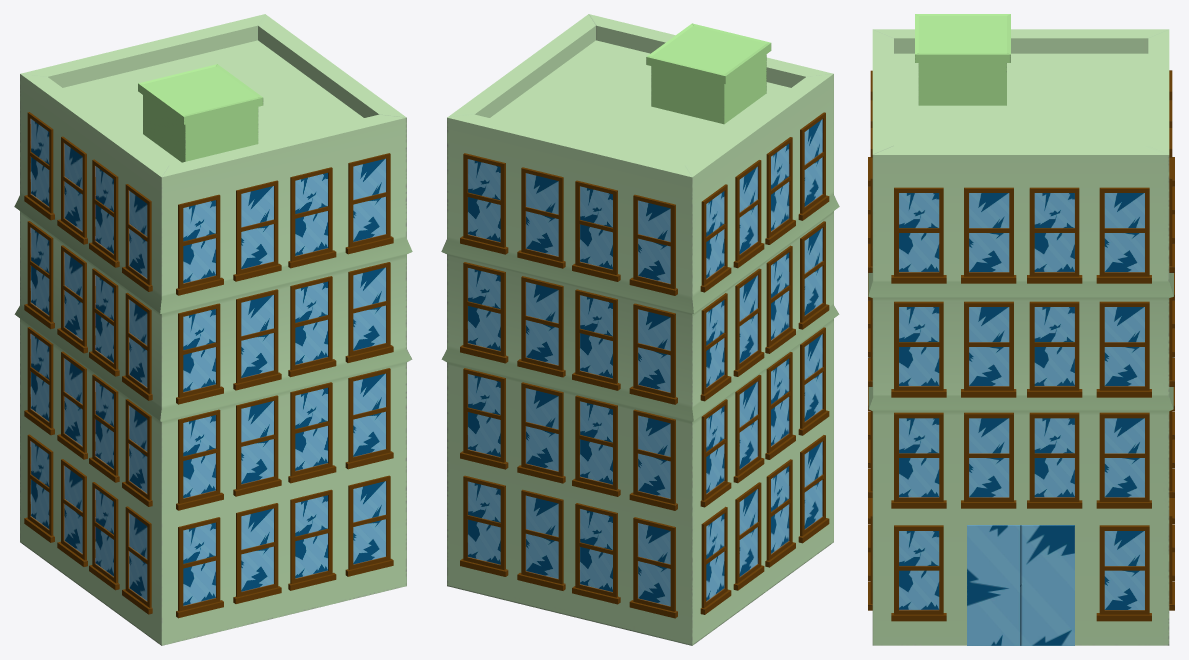
File: edificiograndeverde.fbx
3 renders of one model, left to right at view 1: azimuth 30°, elevation 25°; view 2: azimuth 150°, elevation 25°; view 3: azimuth 270°, elevation 25°, orthographic. The views are drawn at different scales.
Parts seen in each view (by area): view 1: pCube23; view 2: pCube23; view 3: pCube23.
Part boxes in pixels (box(x1,y1,x2,y2)): pCube23: box(14, 14, 412, 645); pCube23: box(441, 14, 839, 645); pCube23: box(868, 14, 1174, 645).
Bounding box in the file's own units: 13.07 × 24.72 × 13.02.
1 material, 1 textured.
